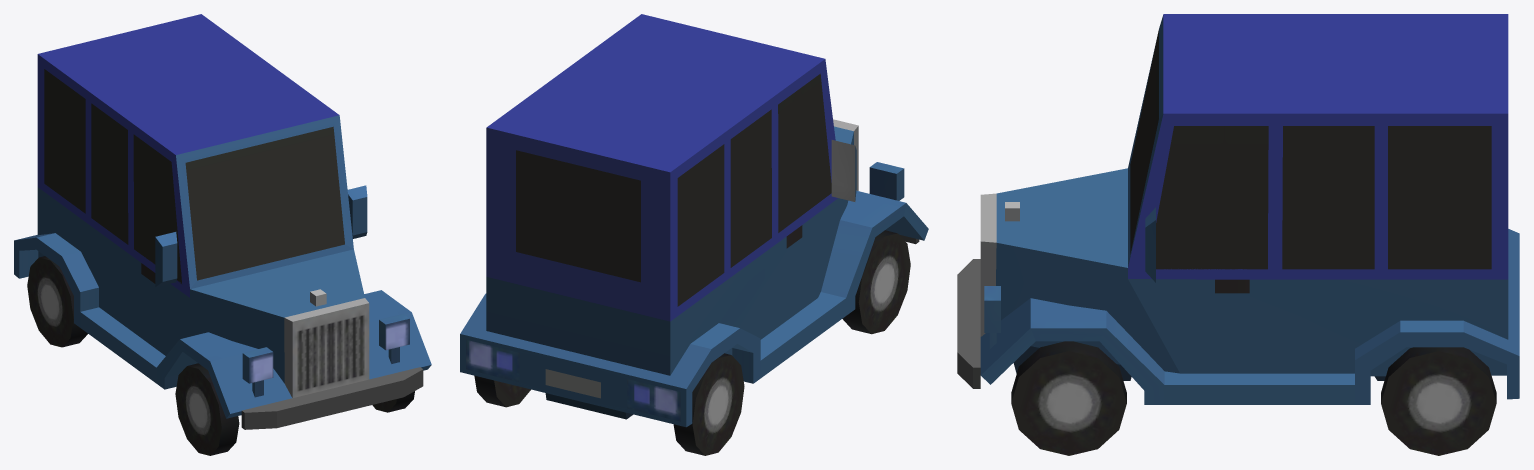
File: old_car.FBX
3 renders of one model, left to right at view 1: azimuth 30°, elevation 25°; view 2: azimuth 150°, elevation 25°; view 3: azimuth 270°, elevation 25°, orthographic. The views are drawn at different scales.
Visible parts, largest first — view 1: old_car; view 2: old_car; view 3: old_car.
Part boxes in pixels (box(x1,y1,x2,y2)): old_car: box(14, 14, 431, 455); old_car: box(460, 14, 928, 455); old_car: box(957, 14, 1519, 455).
Size of the model in its own units: 2.97 by 3.58 by 5.49.
